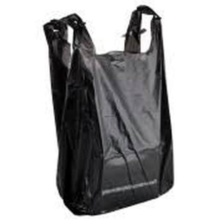plastic_bag: (28, 1, 179, 218)
